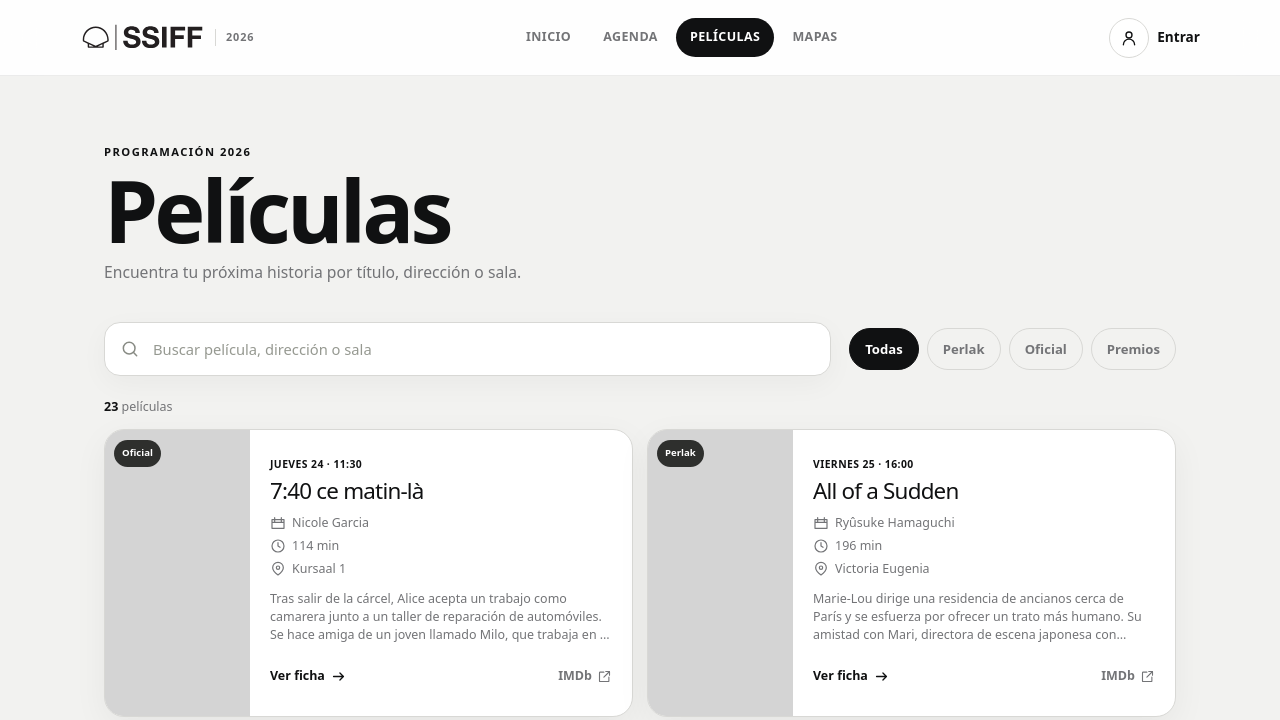
filtra películas desde el catálogo completo
Type "minotaur" into the search field named "buscar películas" at [483, 349], box left=151, top=337, right=815, bottom=361
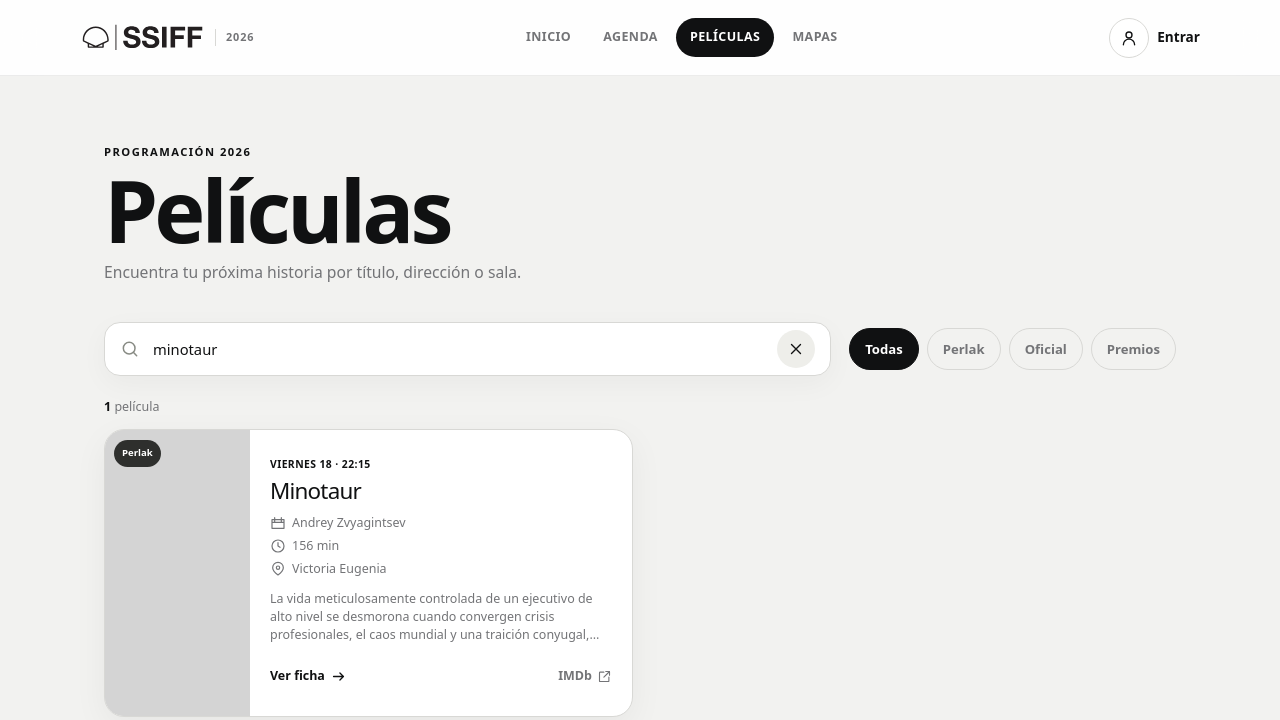
Check: the heading "Minotaur" is shown, box left=270, top=475, right=361, bottom=506
Check: the element labelled "1 película" is shown, box left=104, top=398, right=159, bottom=415
